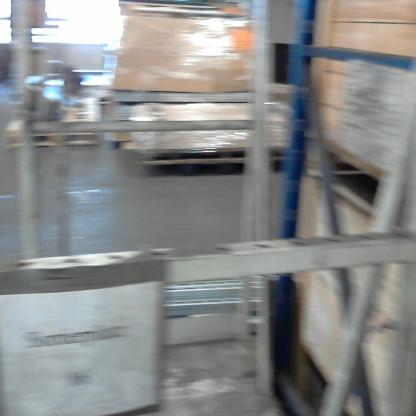pallet: (127, 108, 309, 169), (2, 91, 102, 150)
